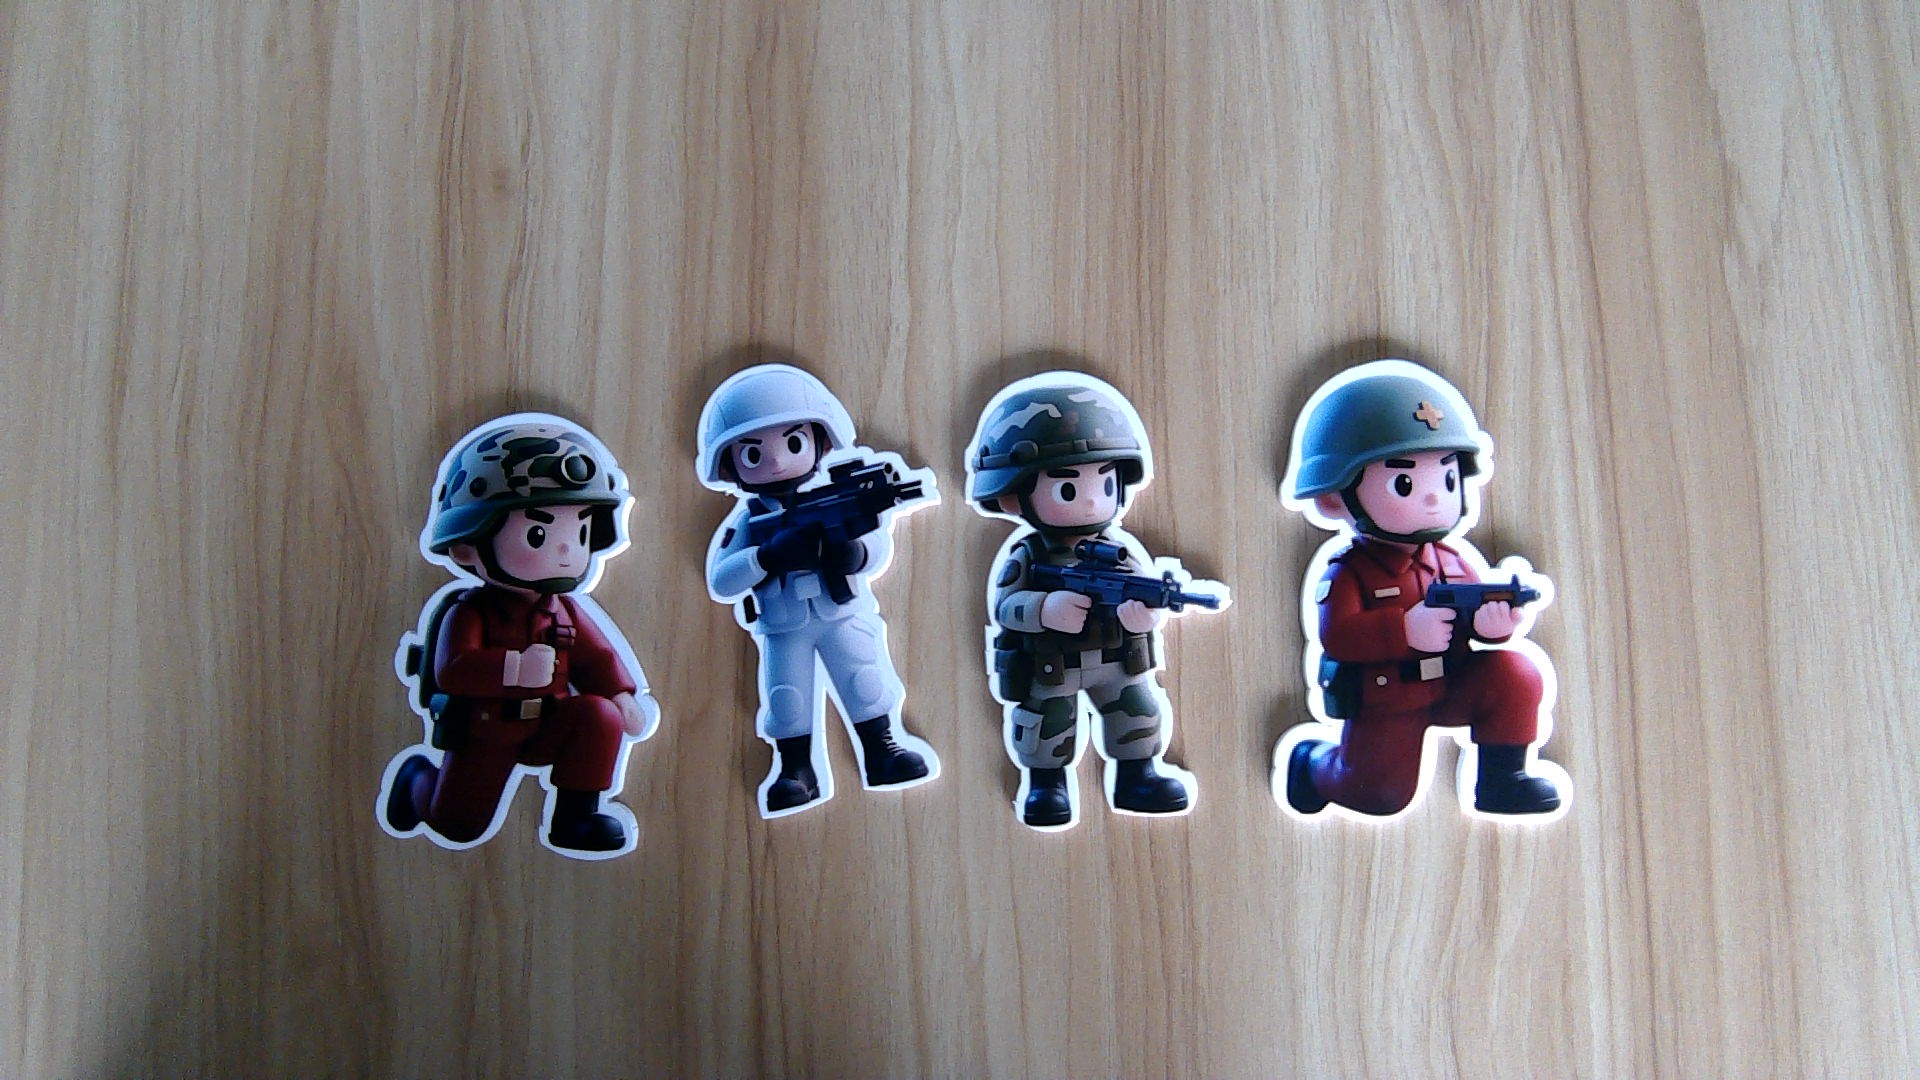人质: (702, 501, 949, 822)
友军: (971, 527, 1238, 837)
敌人1: (1265, 546, 1582, 833), (371, 588, 662, 861)
